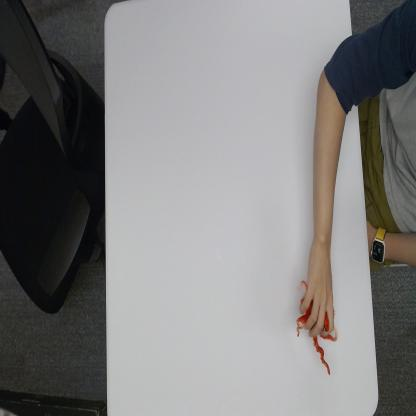Arm: (311, 28, 362, 244)
Hand: (298, 242, 339, 340)
Octopus: (296, 278, 338, 378)
